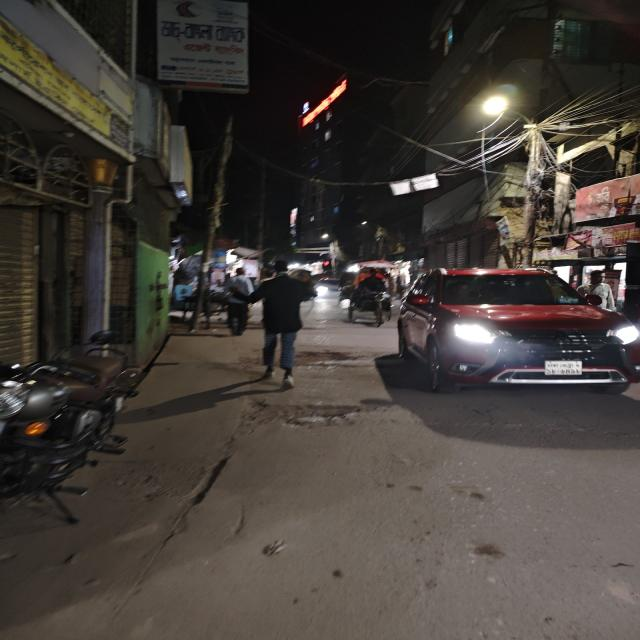car: (390, 265, 640, 395)
motorcycle: (0, 321, 143, 535)
pedestrian: (242, 261, 320, 389), (224, 266, 252, 338)
rickshaw: (335, 264, 392, 326)
